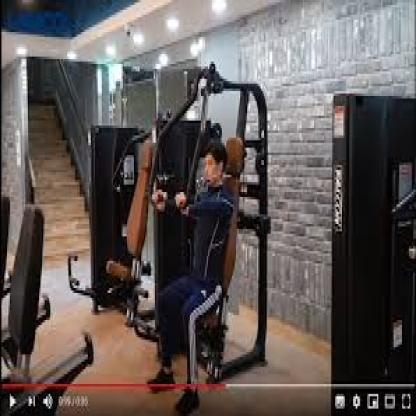chest fly machine: (102, 59, 278, 416)
